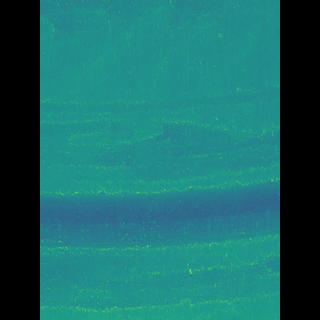Loch: (68, 180, 249, 250), (68, 260, 250, 312)
